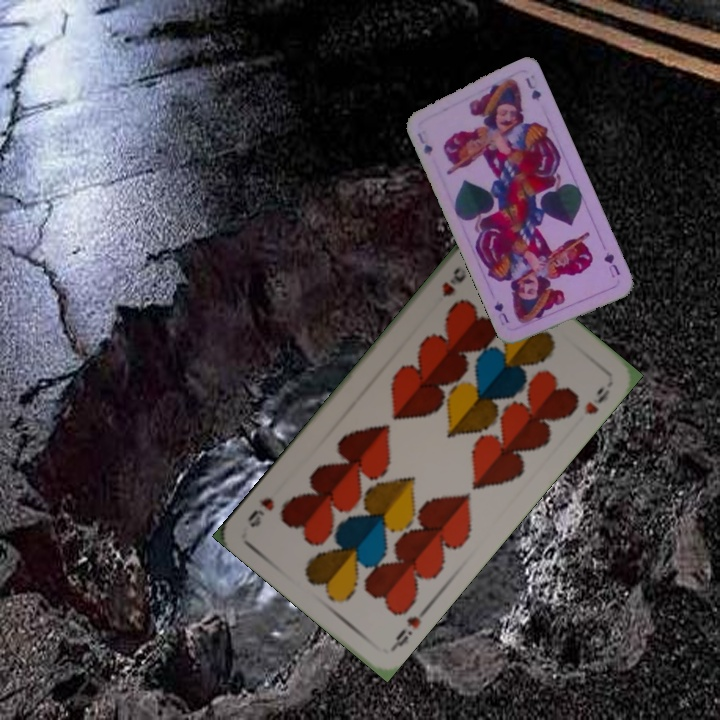GU: (600, 248, 623, 280), (413, 129, 435, 158)
H9: (387, 604, 431, 653), (438, 263, 470, 300)
